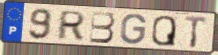9: (27, 8, 54, 41)
B: (88, 10, 117, 44)
G: (119, 13, 148, 46)
Q: (151, 14, 178, 48)
R: (56, 10, 88, 41)
T: (184, 15, 209, 49)
